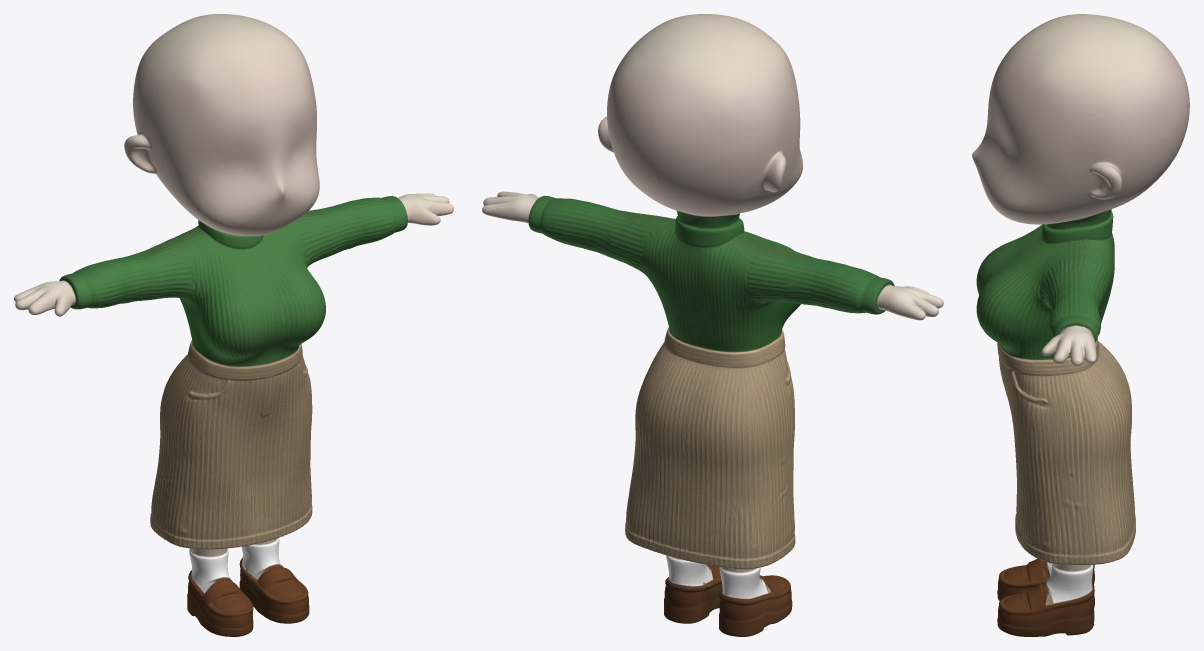
The model's file is baked_outfit_turtle.glb.
3 views of the same model, side by side, from view 1: azimuth 30°, elevation 25°; view 2: azimuth 150°, elevation 25°; view 3: azimuth 270°, elevation 25° (orthographic). The views are drawn at different scales.
Bounding box in the file's own units: 1.5 × 1.9 × 0.637.
1 material, 1 textured.
